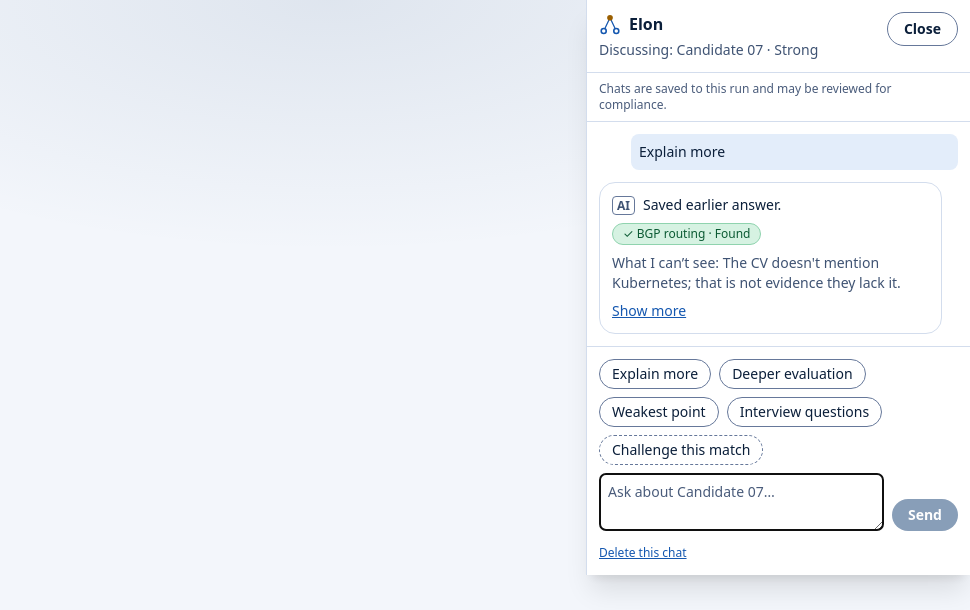
Test: assistant panel › reloads the saved thread for each candidate and can delete it
Expected: the text "Saved earlier answer." is shown, [643,195,781,214]
Click the button "Delete this chat".
click(643, 553)  # box [599,545,687,561]
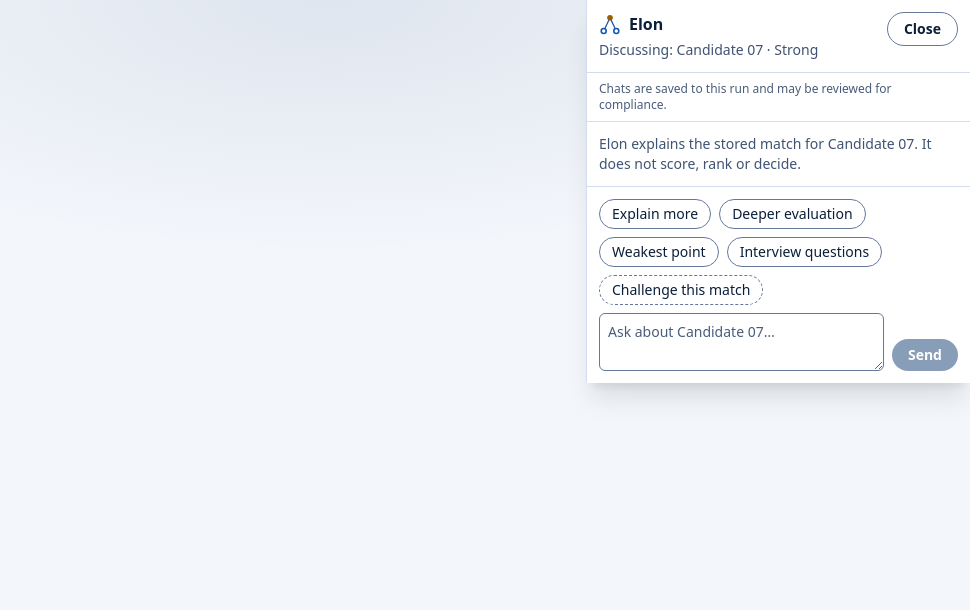
Result: the text "Saved earlier answer." is gone
